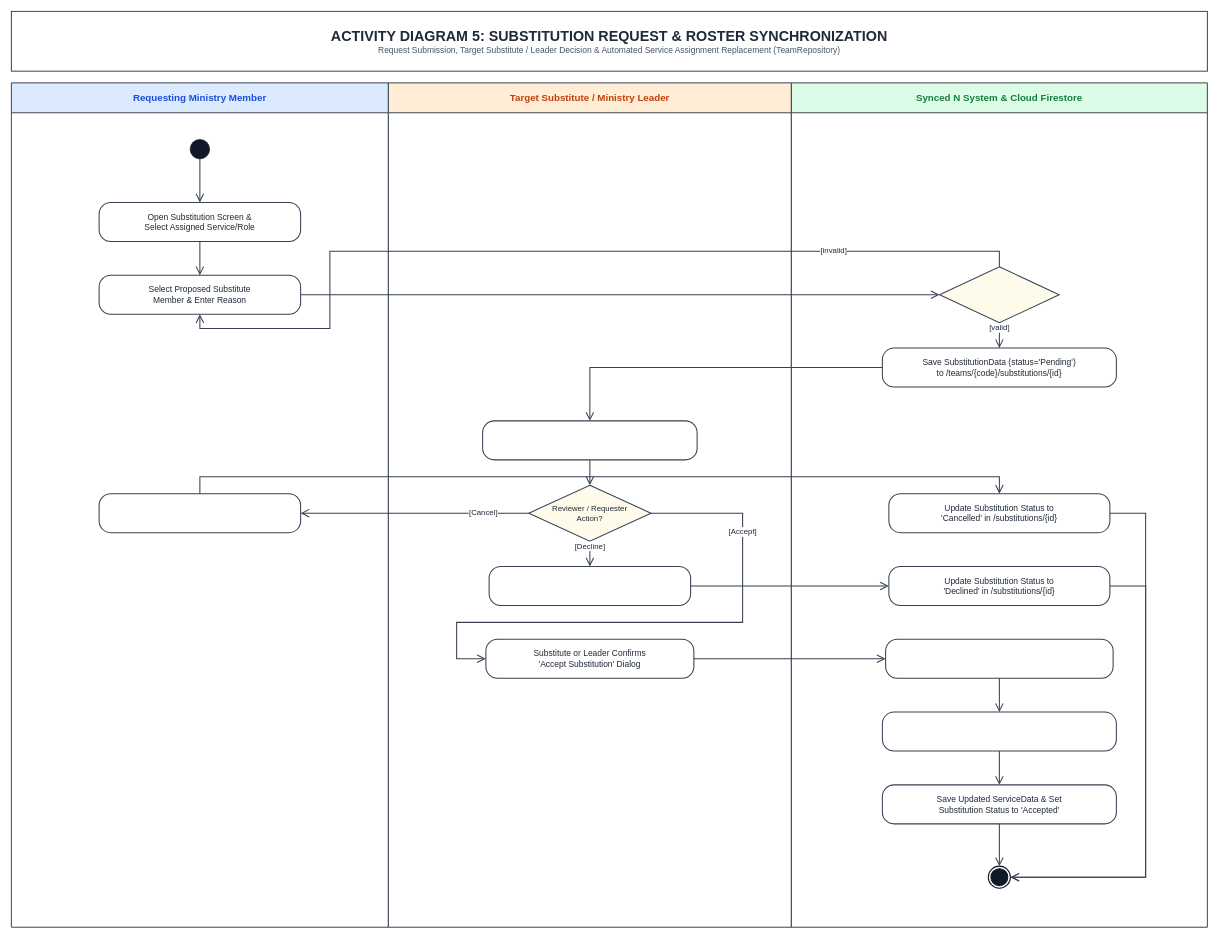
Image size: 1219x939. Some labels were removed from this diagram. The centre of each missing label's shape, as x and y in pixels:
Execute replaceAssignmentInService() (Swap Requester with Substitute): point (999, 731)
Fetch ServiceData from /teams/{code}/services/{serviceId}: point (999, 658)
Requester Taps 'Cancel Request' on Pending Item: point (199, 513)
Substitute != Self & Fields Valid?: point (999, 294)
Substitute or Leader Taps 'Decline' on Request: point (589, 586)
View Pending Substitution Request on Notifications Screen: point (589, 440)
